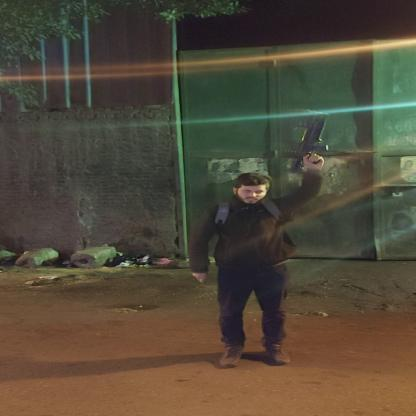long weapon: (278, 92, 364, 190)
